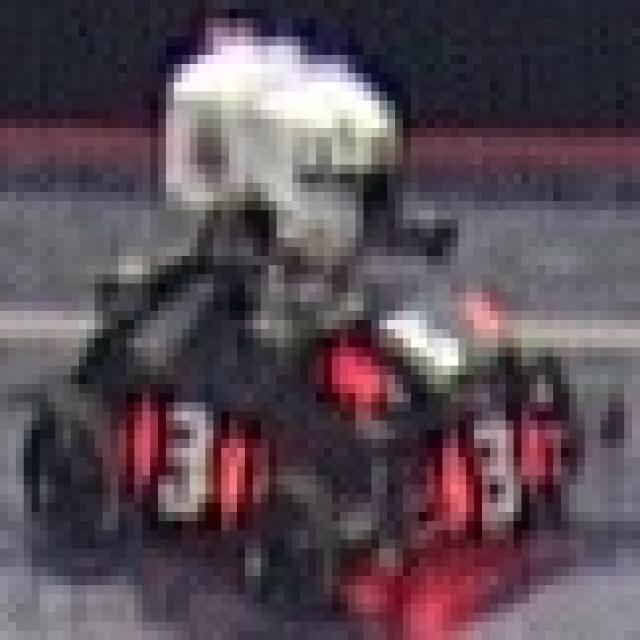R3: (110, 384, 252, 530), (427, 402, 537, 549)
